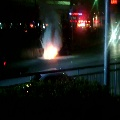fire: (44, 44, 58, 59)
